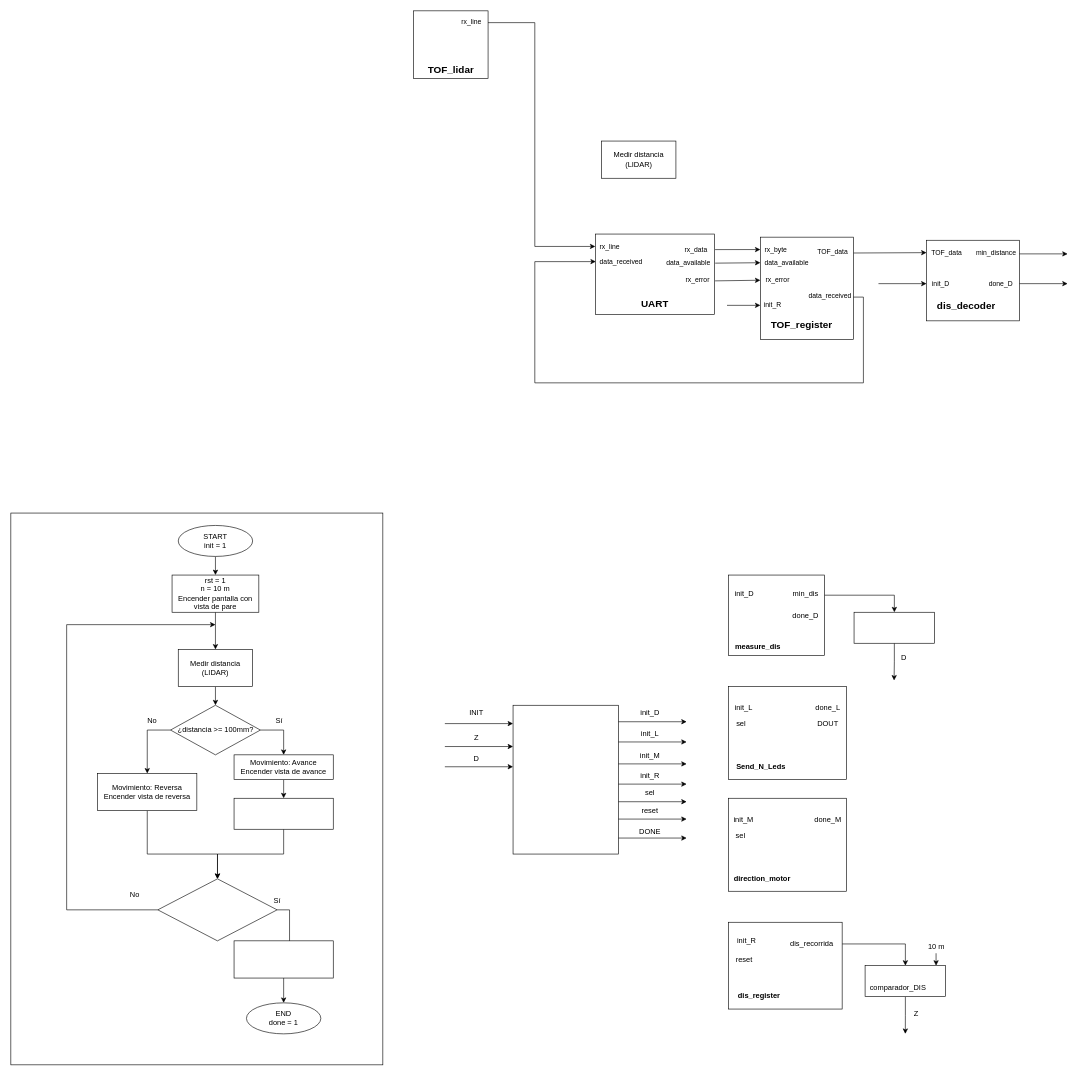
Some shapes in this 1084 by 1076 pixel diagram are drawn without their labels. The shapes that lost their labels are listed below. From the top down, each one's centre as x and y in pixels, then its label:
At point (894, 627): "comparador_LIDAR".
At point (565, 779): "CONTROL_GENERAL".
At point (283, 813): "Medir distancia recorrida".
At point (217, 909): "¿Distancia recorrida = n?".
At point (283, 959): "Movimiento: Parar Encender vista de pare".
